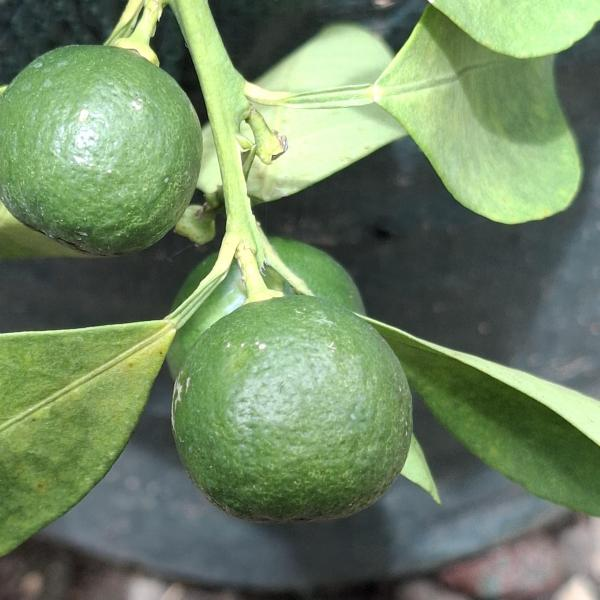Scab: (167, 298, 430, 527), (0, 49, 205, 258)
